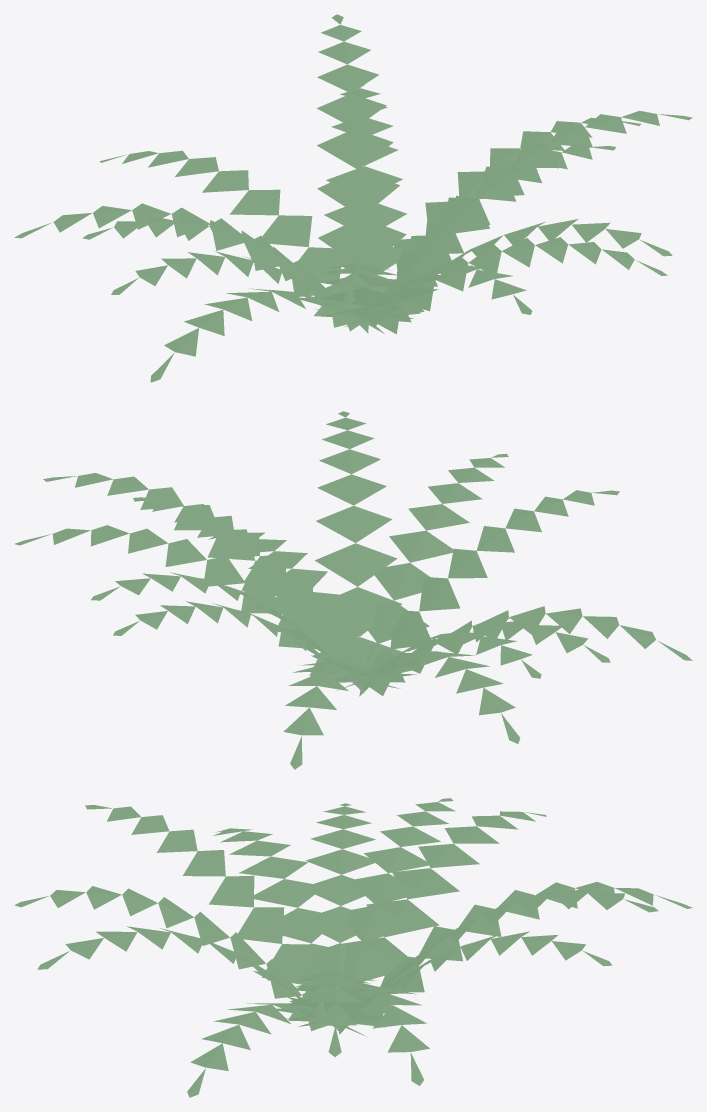
File: Blender_SwordFern_2.glb
3 renders of one model, top to bottom at view 1: azimuth 30°, elevation 25°; view 2: azimuth 150°, elevation 25°; view 3: azimuth 270°, elevation 25°, orthographic. The views are drawn at different scales.
Parts seen in each view (by area): view 1: Blender_SwordFern_2; view 2: Blender_SwordFern_2; view 3: Blender_SwordFern_2.
Boxes of the visible parts, bbox=[...] form: Blender_SwordFern_2: bbox=[14, 14, 692, 382]; Blender_SwordFern_2: bbox=[15, 411, 692, 769]; Blender_SwordFern_2: bbox=[14, 798, 692, 1097].
Bounding box in the file's own units: 1.11 × 0.2986 × 1.03.
